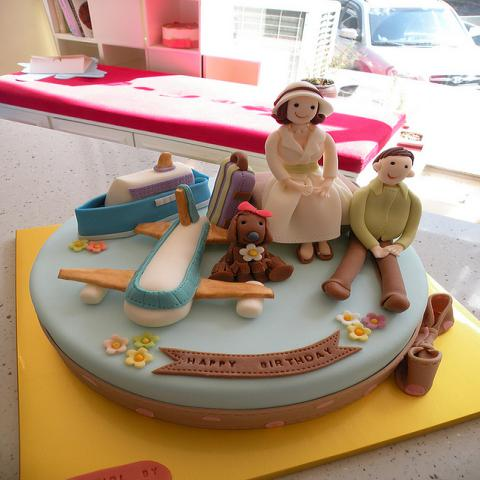car: (341, 3, 478, 88)
